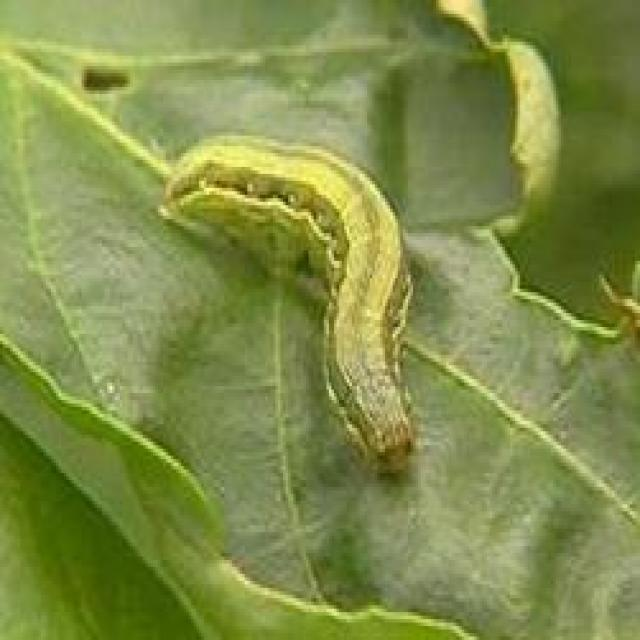BeetArmyWorm-Larva-: (152, 119, 432, 475)
